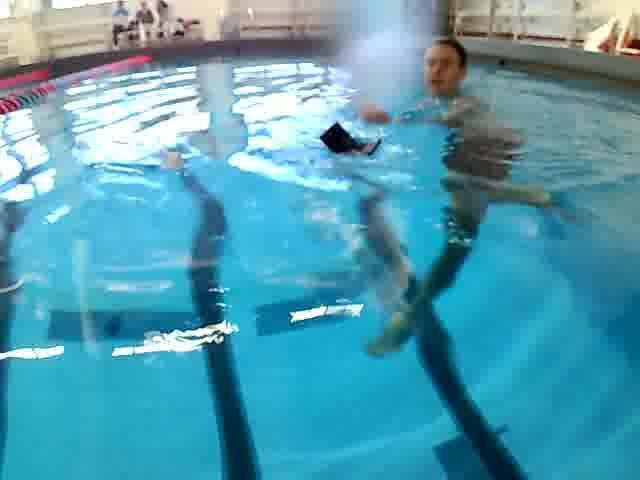CamMount: (317, 116, 382, 164)
